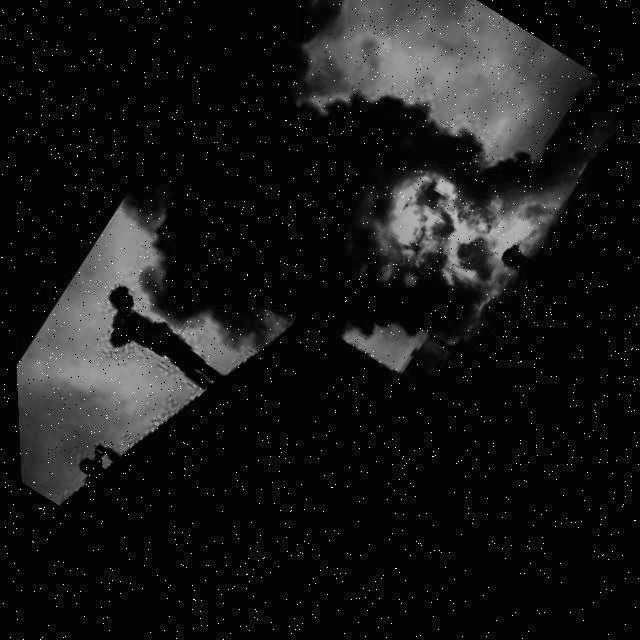Fire: (335, 116, 561, 341), (569, 165, 586, 183)
Smoke: (68, 0, 489, 399)
